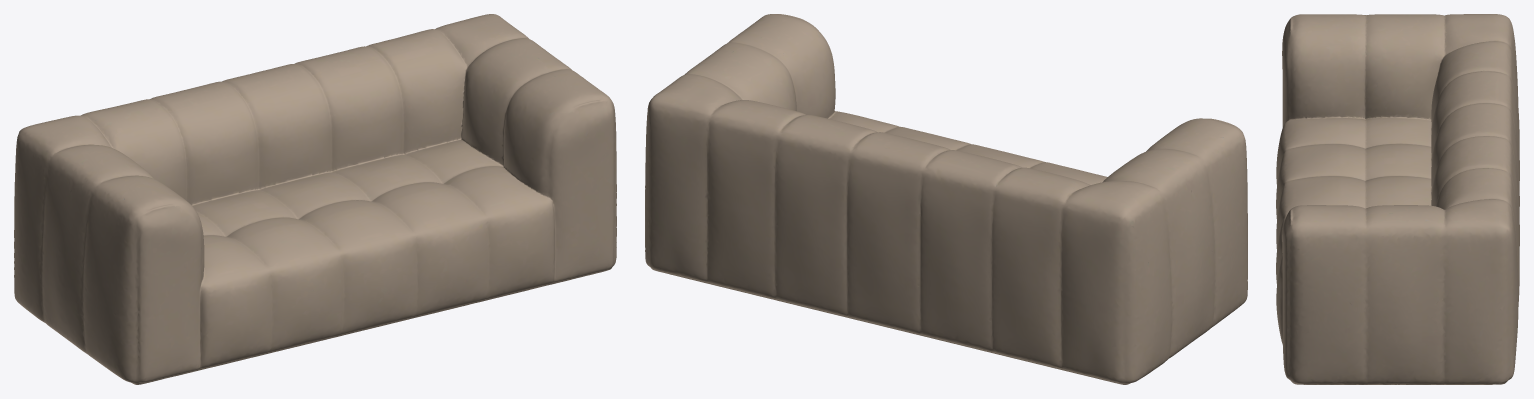
Rendered from loveseat.glb.
3 views of the same model, side by side, from view 1: azimuth 30°, elevation 25°; view 2: azimuth 150°, elevation 25°; view 3: azimuth 270°, elevation 25° (orthographic). The views are drawn at different scales.
Visible parts, largest first — view 1: world; view 2: world; view 3: world.
Part boxes in pixels (<box>): world: <box>14,14,616,384</box>; world: <box>645,14,1247,384</box>; world: <box>1276,14,1519,384</box>.
Bounding box in the file's own units: 1 × 0.342 × 0.4551.
Materials: 1 (1 with a texture image).
